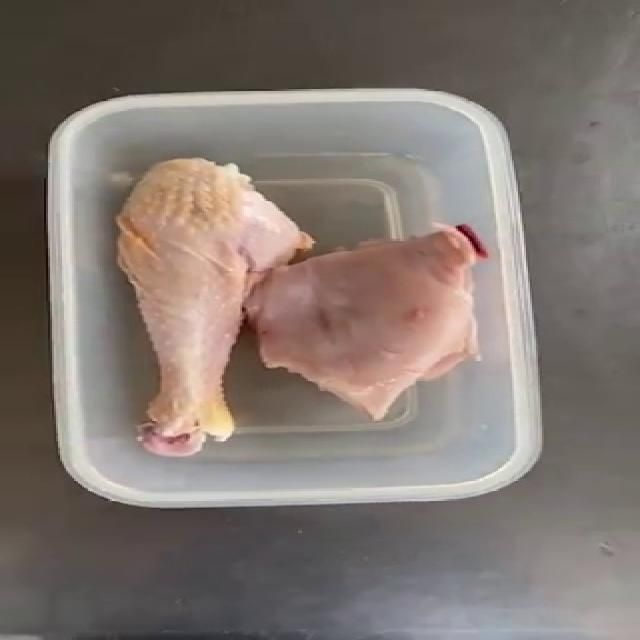chicken: (112, 160, 484, 453)
